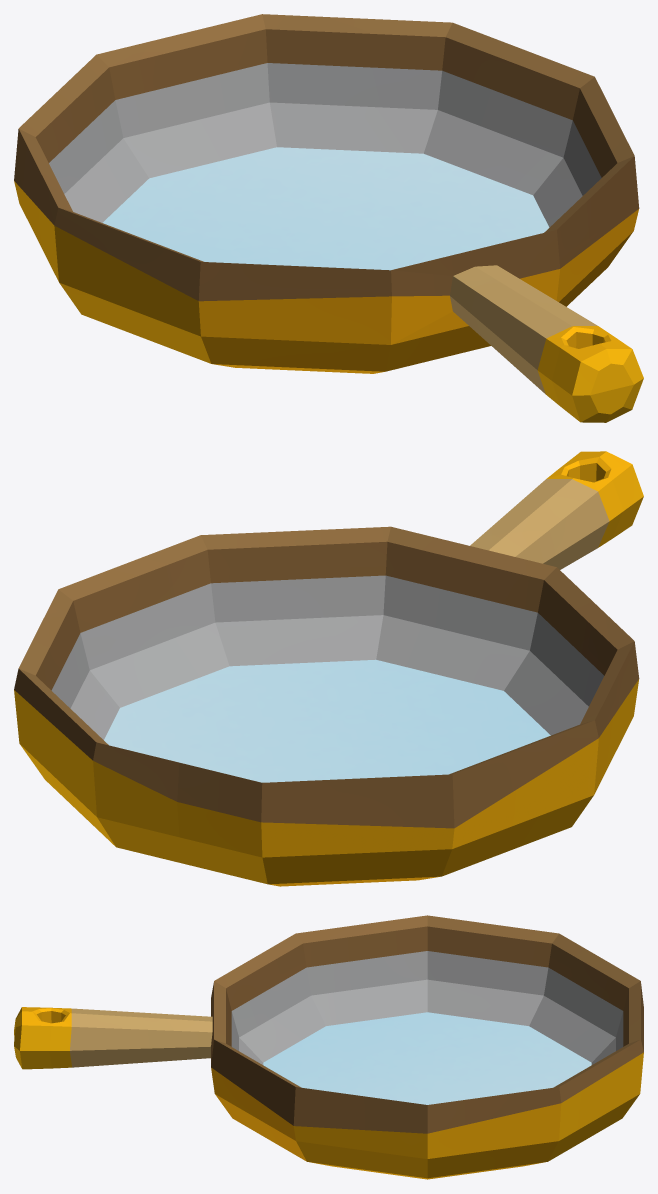
Rendered from pan.glb.
The picture shows the model from 3 angles, top to bottom: view 1: azimuth 30°, elevation 25°; view 2: azimuth 150°, elevation 25°; view 3: azimuth 270°, elevation 25°; orthographic projection. The views are drawn at different scales.
Visible parts, largest first — view 1: pan; view 2: pan; view 3: pan.
Part boxes in pixels (left/top/right/bottom): pan: left=14, top=14, right=643, bottom=422; pan: left=14, top=451, right=643, bottom=886; pan: left=14, top=915, right=643, bottom=1179.
Bounding box in the file's own units: 0.4336 × 0.1057 × 0.6001.
1 material, 1 textured.
